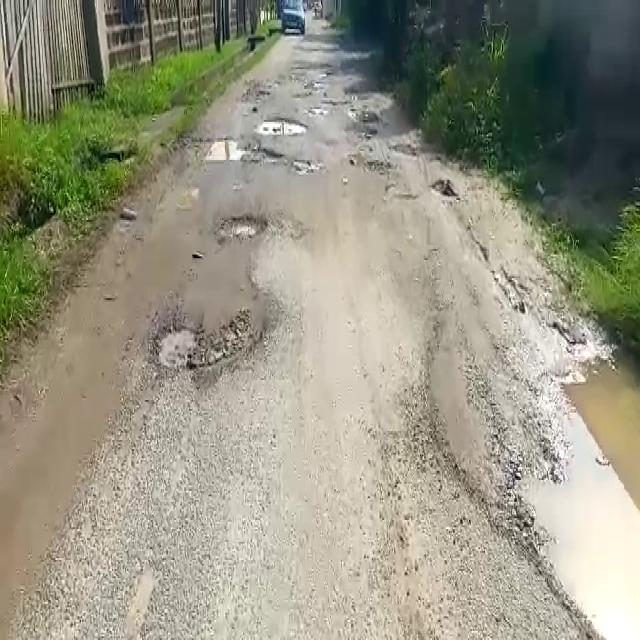Pothole: (512, 344, 640, 640), (152, 310, 252, 373), (186, 137, 246, 163), (218, 213, 269, 240), (251, 120, 308, 135)
